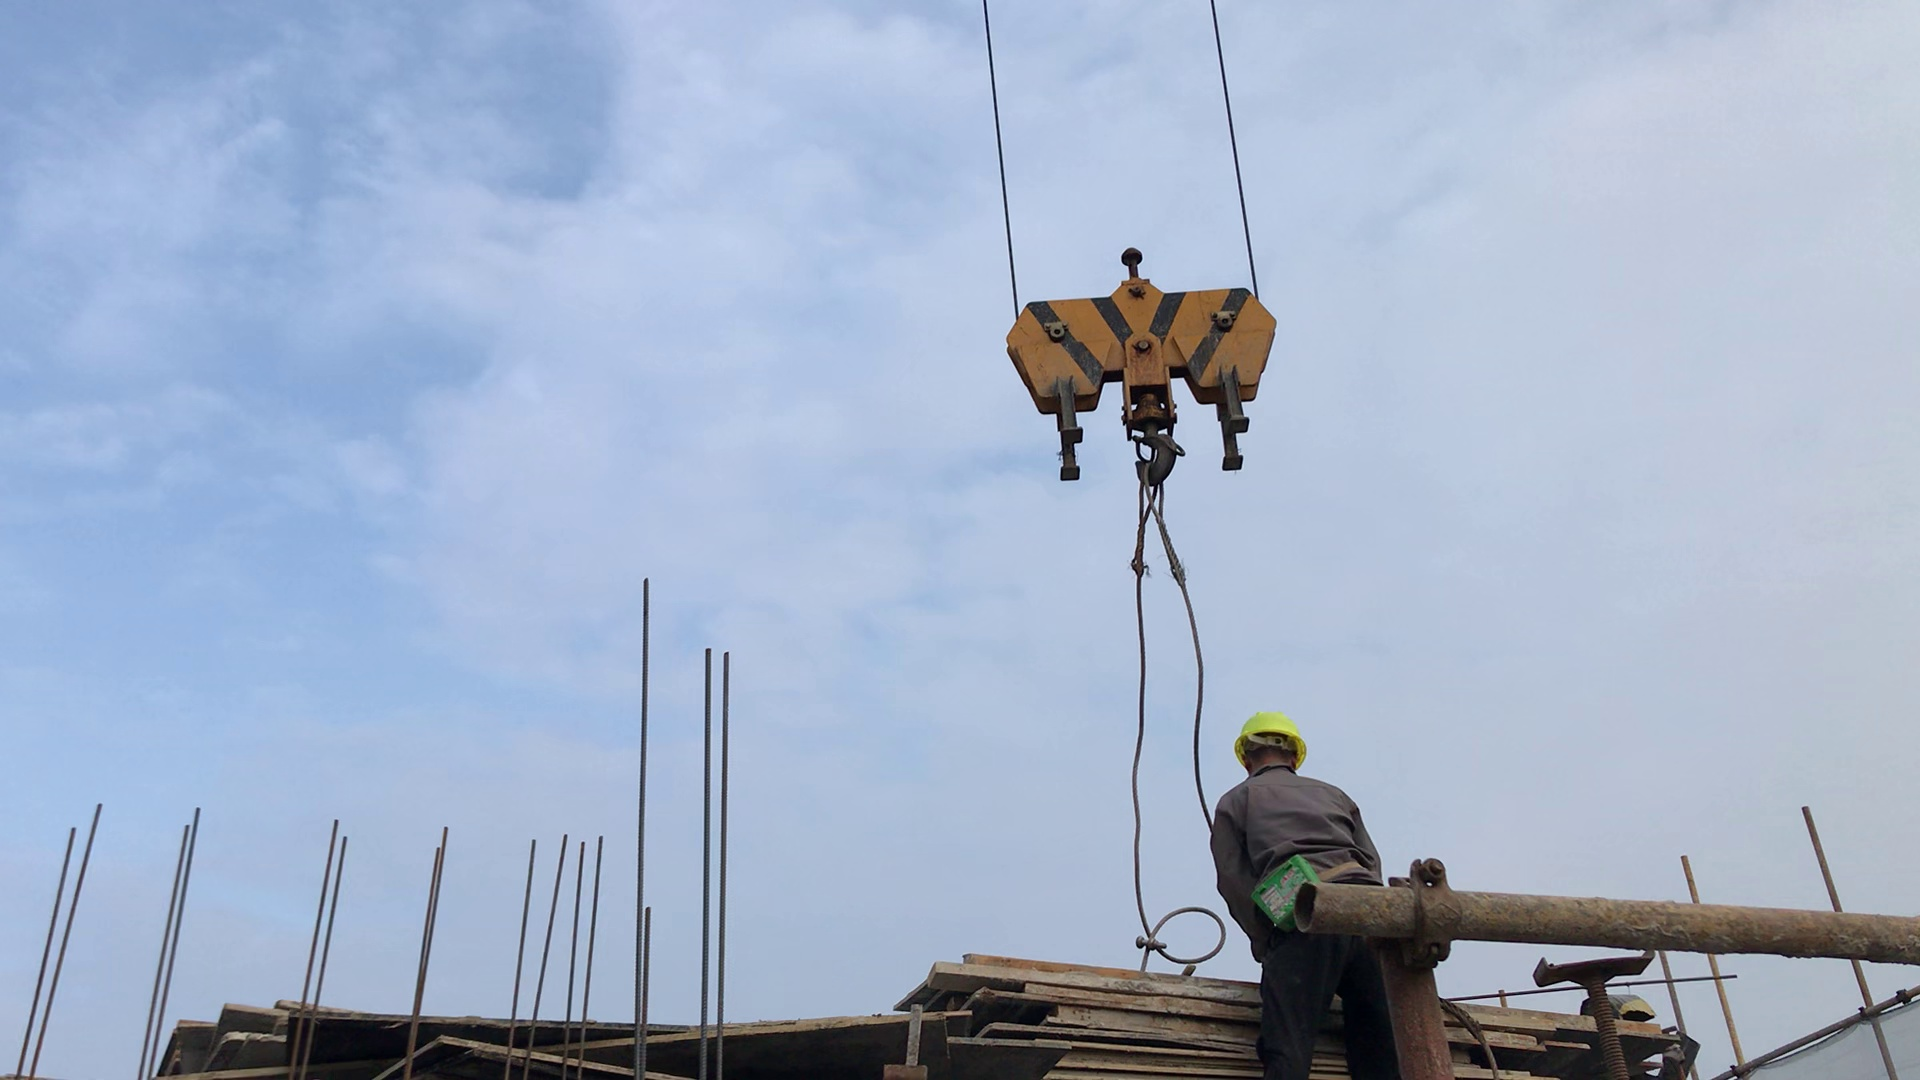board: (923, 950, 1650, 1080)
helmet: (1215, 709, 1312, 764)
hook: (987, 245, 1290, 500)
person: (1164, 705, 1478, 1068)
